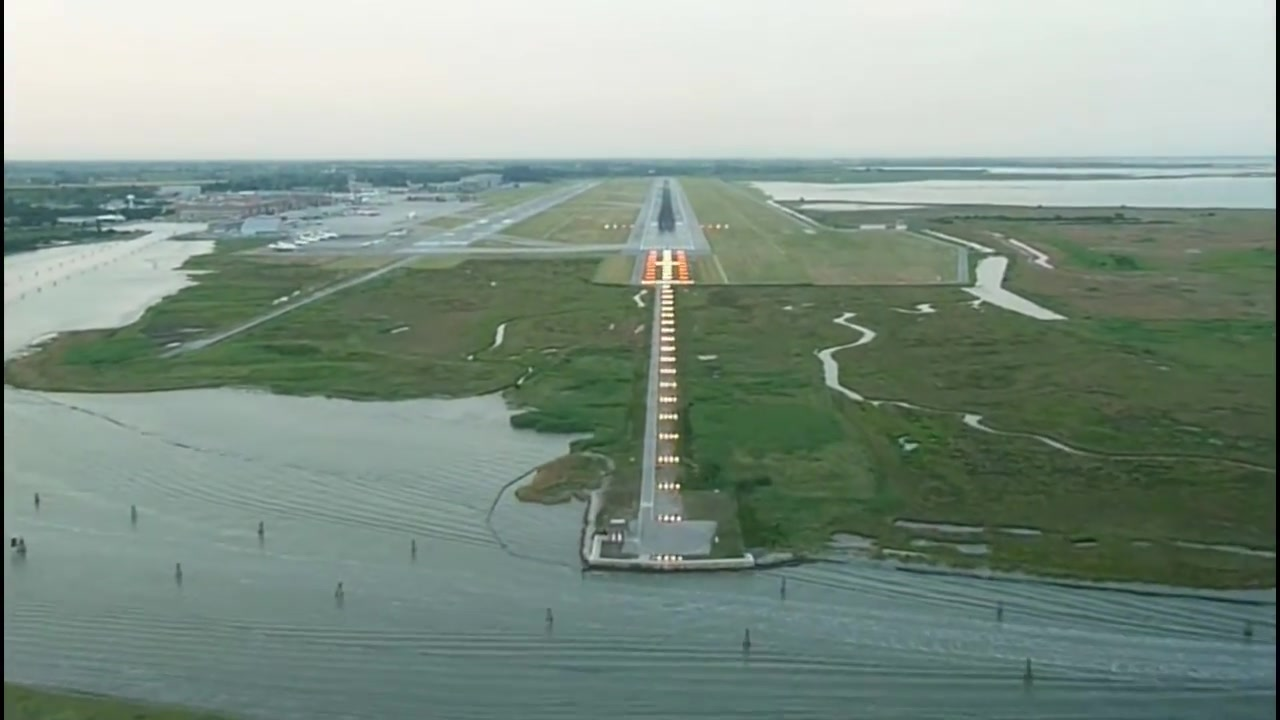runway: (421, 179, 601, 245), (638, 179, 697, 253)
